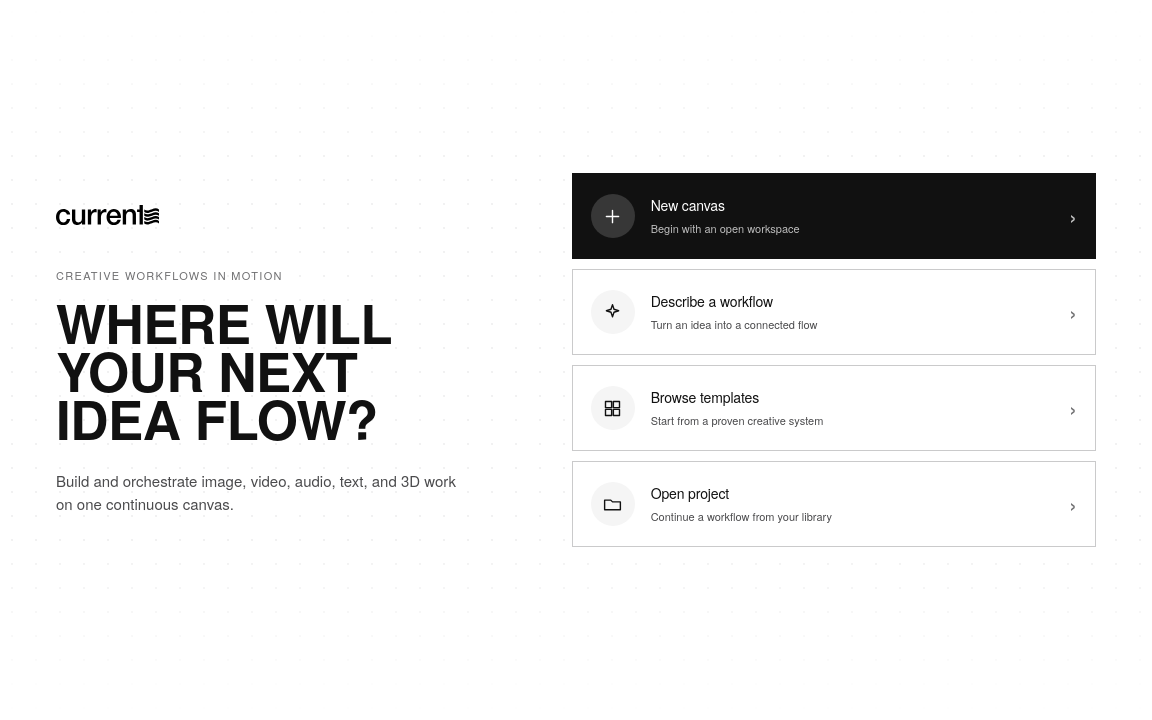
it: WelcomeModal › Initial View Navigation › should navigate to vibe view when 'Prompt a workflow' is clicked
Click the text "Describe a workflow": (712,301) [651,291,773,311]
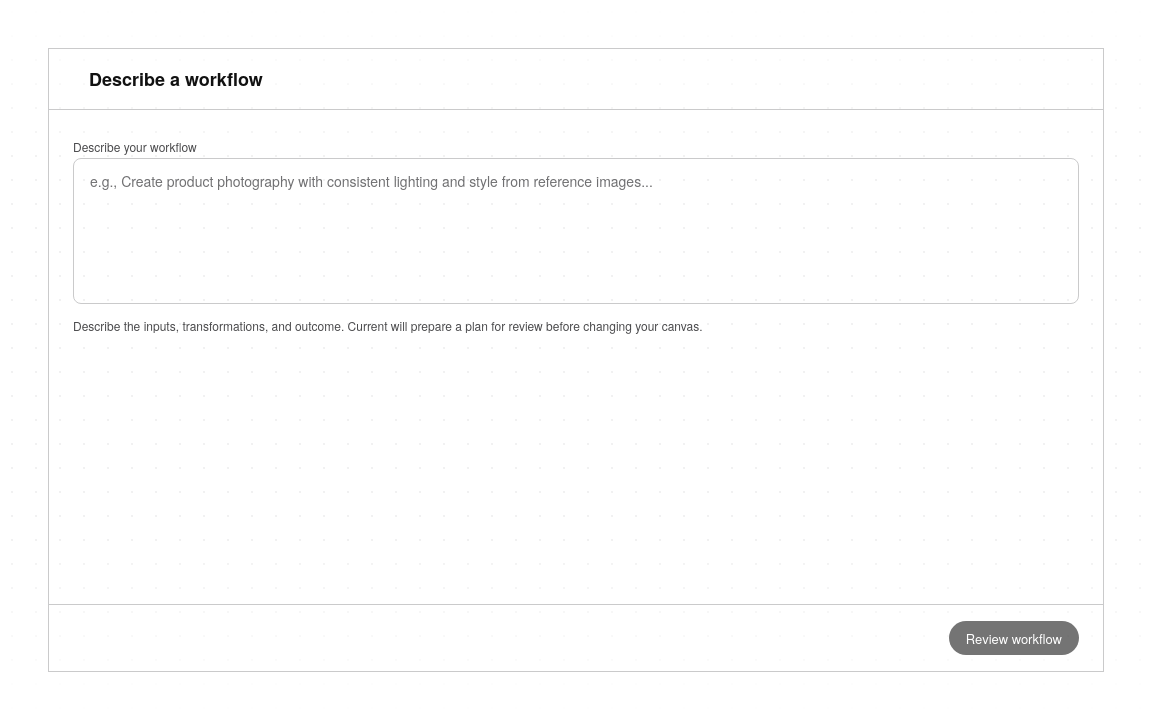
Expected: the heading "Describe a workflow" is shown, [89,65,263,93]
Expected: the text "Describe your workflow" is shown, [73,138,197,155]
